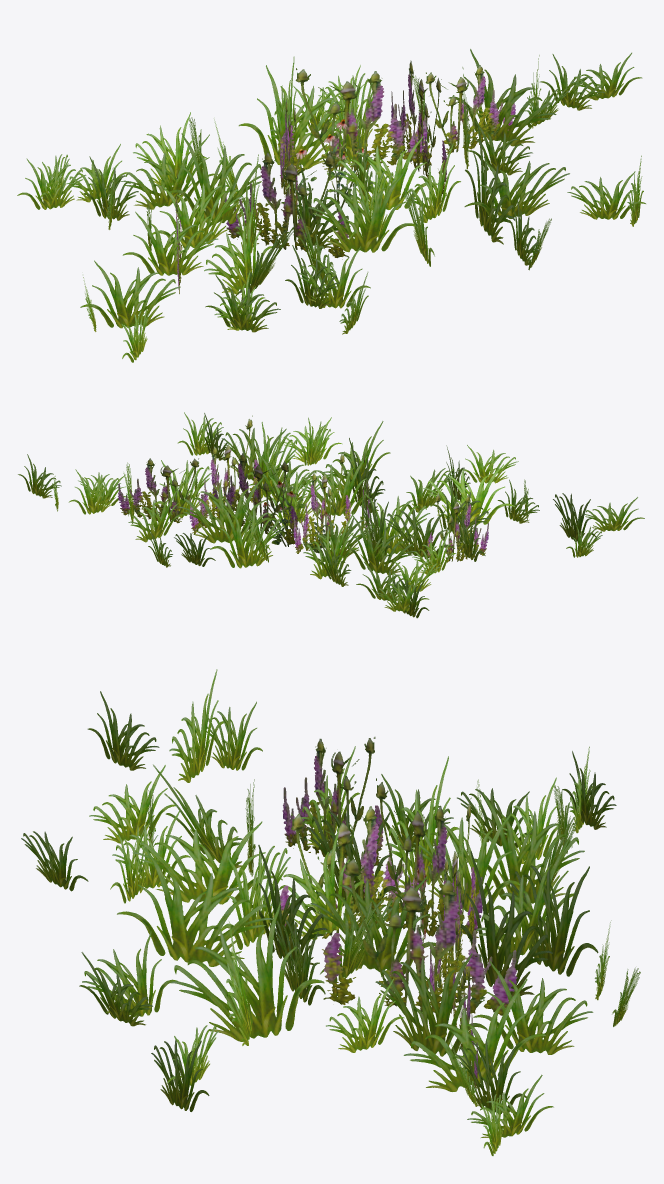
File: DN_grass01a.FBX
The picture shows the model from 3 angles, top to bottom: view 1: azimuth 30°, elevation 25°; view 2: azimuth 150°, elevation 25°; view 3: azimuth 270°, elevation 25°; orthographic projection. The views are drawn at different scales.
Parts seen in each view (by area): view 1: DN_grass01a; view 2: DN_grass01a; view 3: DN_grass01a.
Boxes of the visible parts, left/top/right/bottom form: DN_grass01a: left=17, top=49, right=645, bottom=362; DN_grass01a: left=18, top=412, right=644, bottom=618; DN_grass01a: left=21, top=669, right=640, bottom=1155.
Size of the model in its own units: 253 by 53.47 by 157.
